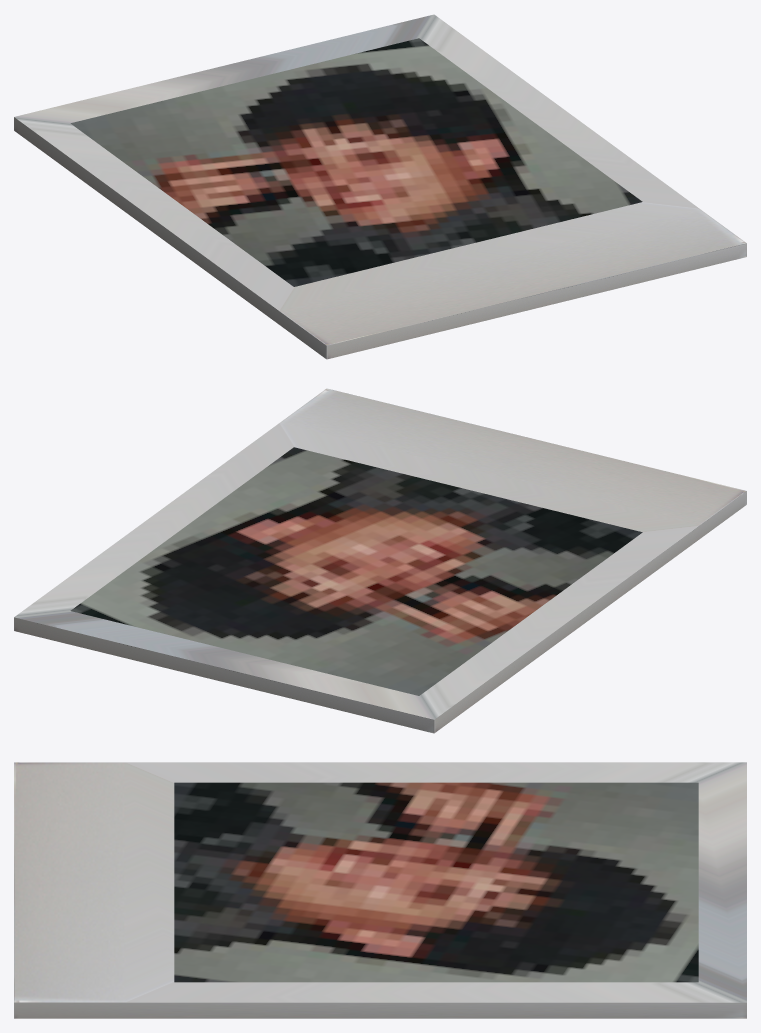
Rendered from p_frame5.FBX.
3 views of the same model, one above another, from view 1: azimuth 30°, elevation 25°; view 2: azimuth 150°, elevation 25°; view 3: azimuth 270°, elevation 25° (orthographic). The views are drawn at different scales.
Parts seen in each view (by area): view 1: Object001, Box001; view 2: Object001, Box001; view 3: Object001, Box001.
Part boxes in pixels (x1=…): Object001: x1=70, y1=38, x2=642, y2=286; Box001: x1=14, y1=14, x2=746, y2=359; Object001: x1=70, y1=447, x2=642, y2=695; Box001: x1=14, y1=388, x2=746, y2=733; Object001: x1=174, y1=782, x2=698, y2=982; Box001: x1=14, y1=762, x2=746, y2=1018.
Size of the model in its own units: 32.55 by 1.01 by 41.95.
Materials: 2 (2 with a texture image).
